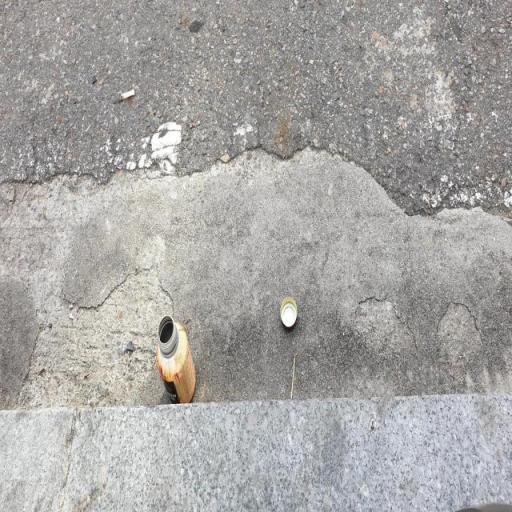metal: (150, 292, 204, 418)
